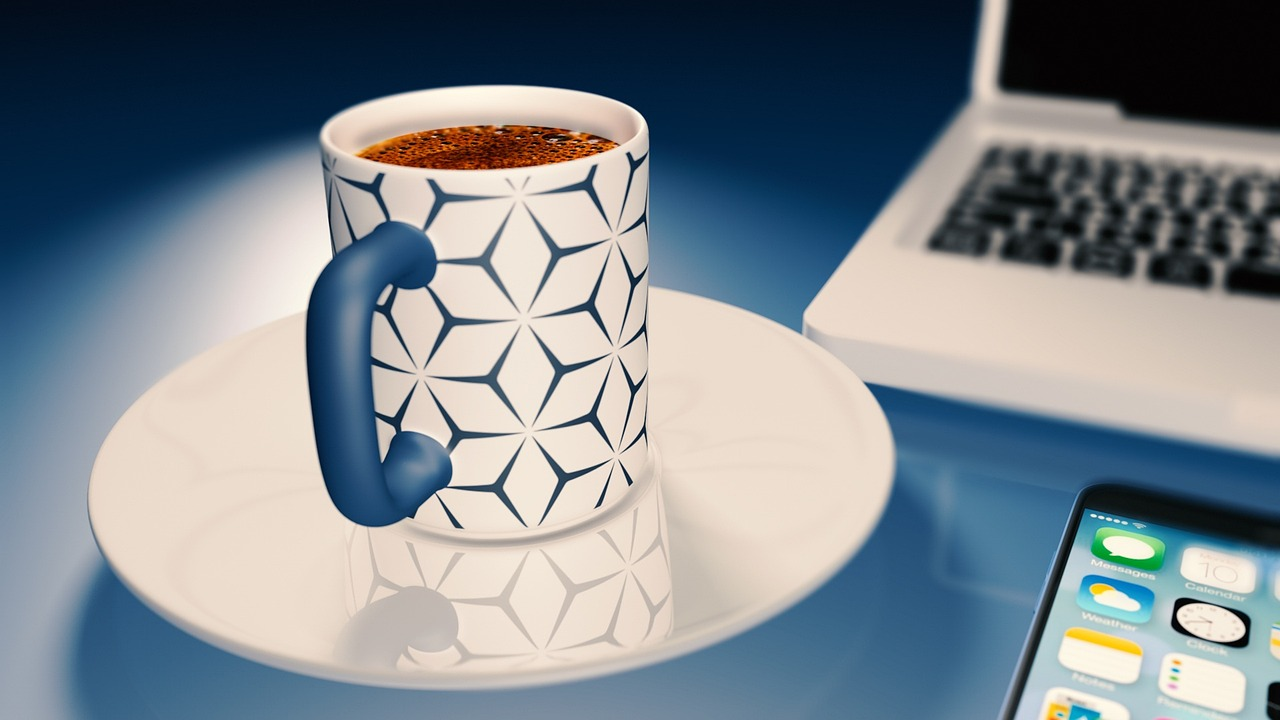mug: (239, 70, 683, 562)
